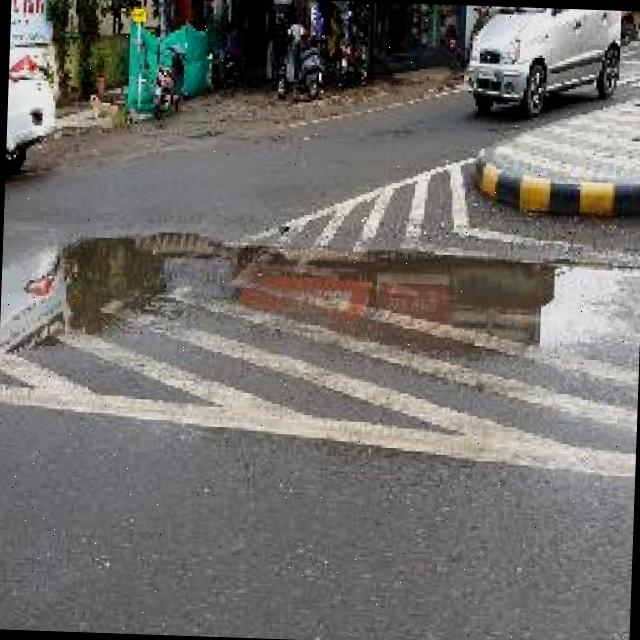waterlogging: (168, 235, 630, 379), (48, 224, 157, 332)
